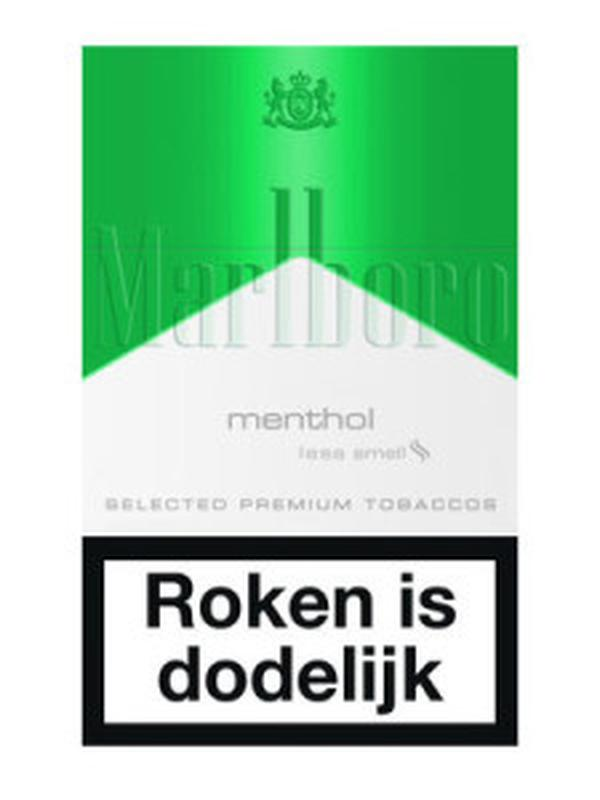marlboro_mentol: (85, 47, 519, 747)
